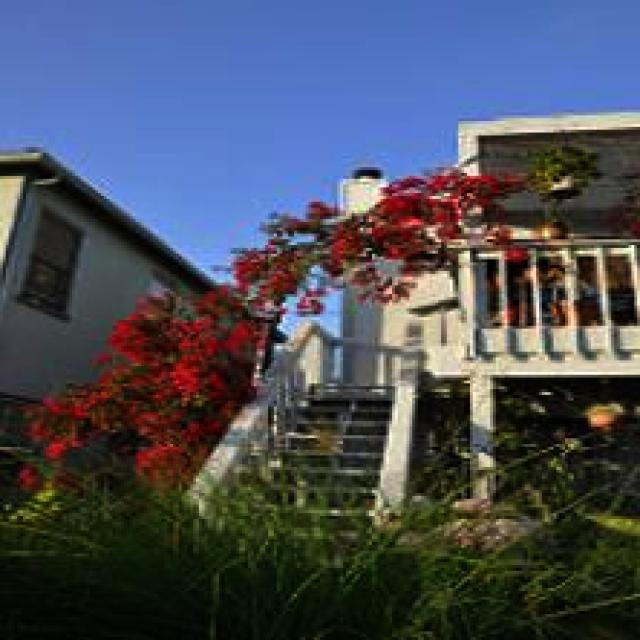upstair: (229, 336, 396, 552)
